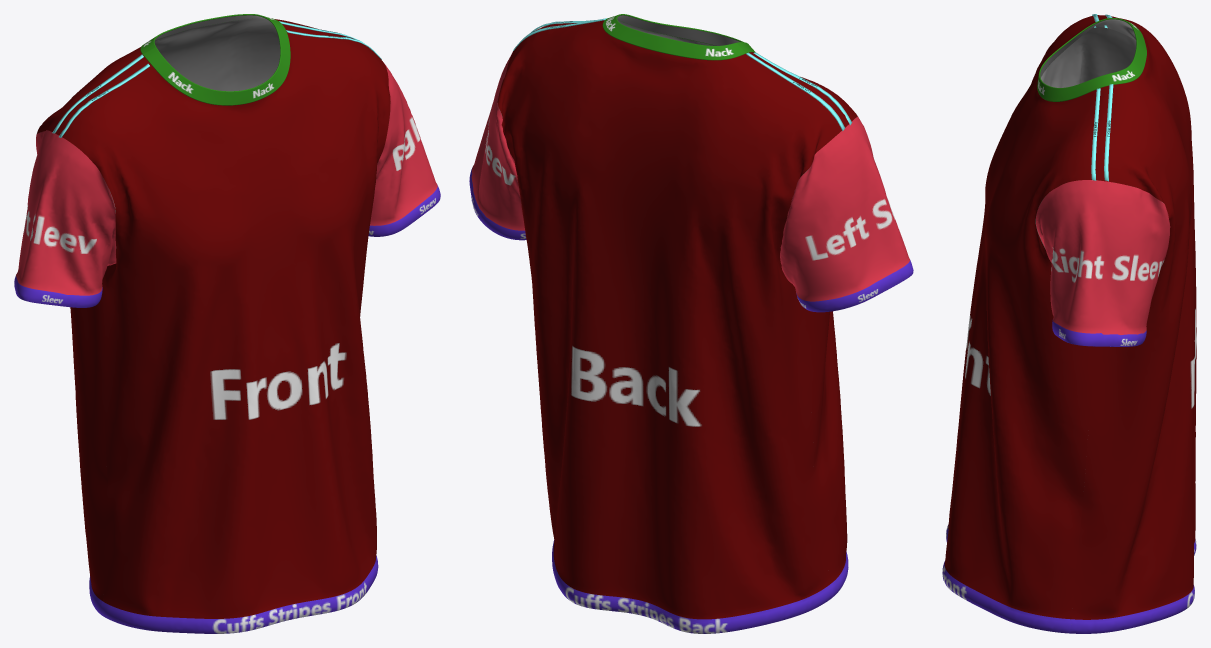
Rendered from 1790183959757_T--Shirt.glb.
The picture shows the model from 3 angles, left to right: view 1: azimuth 30°, elevation 25°; view 2: azimuth 150°, elevation 25°; view 3: azimuth 270°, elevation 25°; orthographic projection. The views are drawn at different scales.
Visible parts, largest first — view 1: Front, Slives, Back, Strips & cufs, Nack, Strips; view 2: Back, Slives, Front, Strips & cufs, Nack, Strips; view 3: Front, Back, Slives, Strips & cufs, Nack, Strips.
Part boxes in pixels (x1,y1,x2,y2): Front: (55,24,390,618); Slives: (16,63,437,295); Back: (37,18,318,600); Strips & cufs: (14,185,440,633); Nack: (140,14,290,105); Strips: (52,21,381,137); Back: (497,20,841,619); Slives: (471,51,909,301); Front: (533,20,857,583); Strips & cufs: (469,168,913,633); Nack: (602,14,755,60); Strips: (513,18,852,130); Front: (944,15,1113,619); Back: (1071,16,1196,619); Slives: (1035,26,1170,334); Strips & cufs: (942,320,1196,633); Nack: (1037,18,1146,101); Strips: (1091,14,1113,181).
Size of the model in its own units: 23.11 by 28.52 by 12.3.
Materials: 6 (6 with a texture image).
